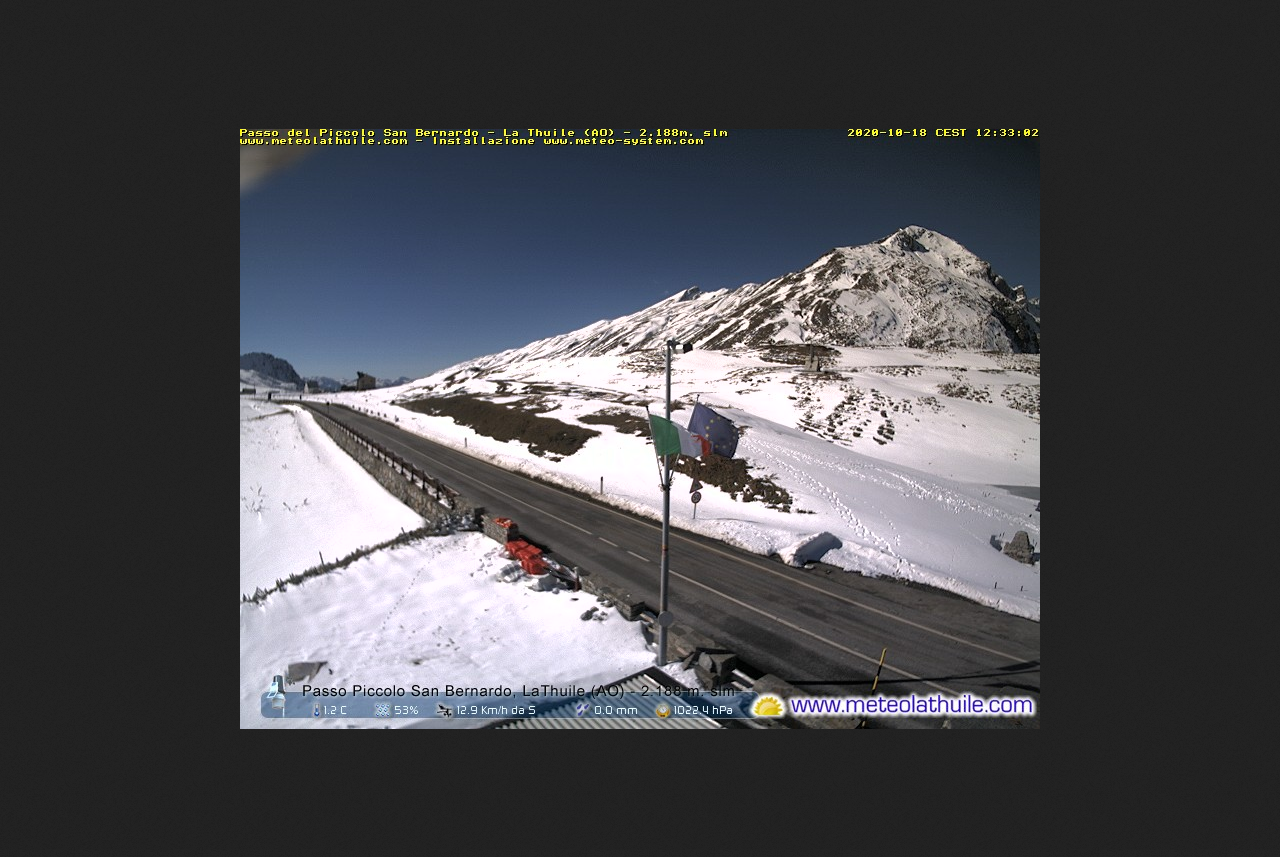yes: (647, 413, 711, 462), (690, 404, 741, 456)
